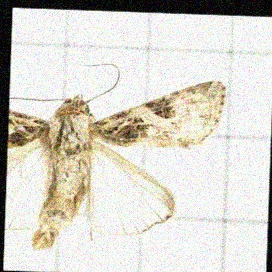Spodoptera litura: (7, 63, 225, 254)
